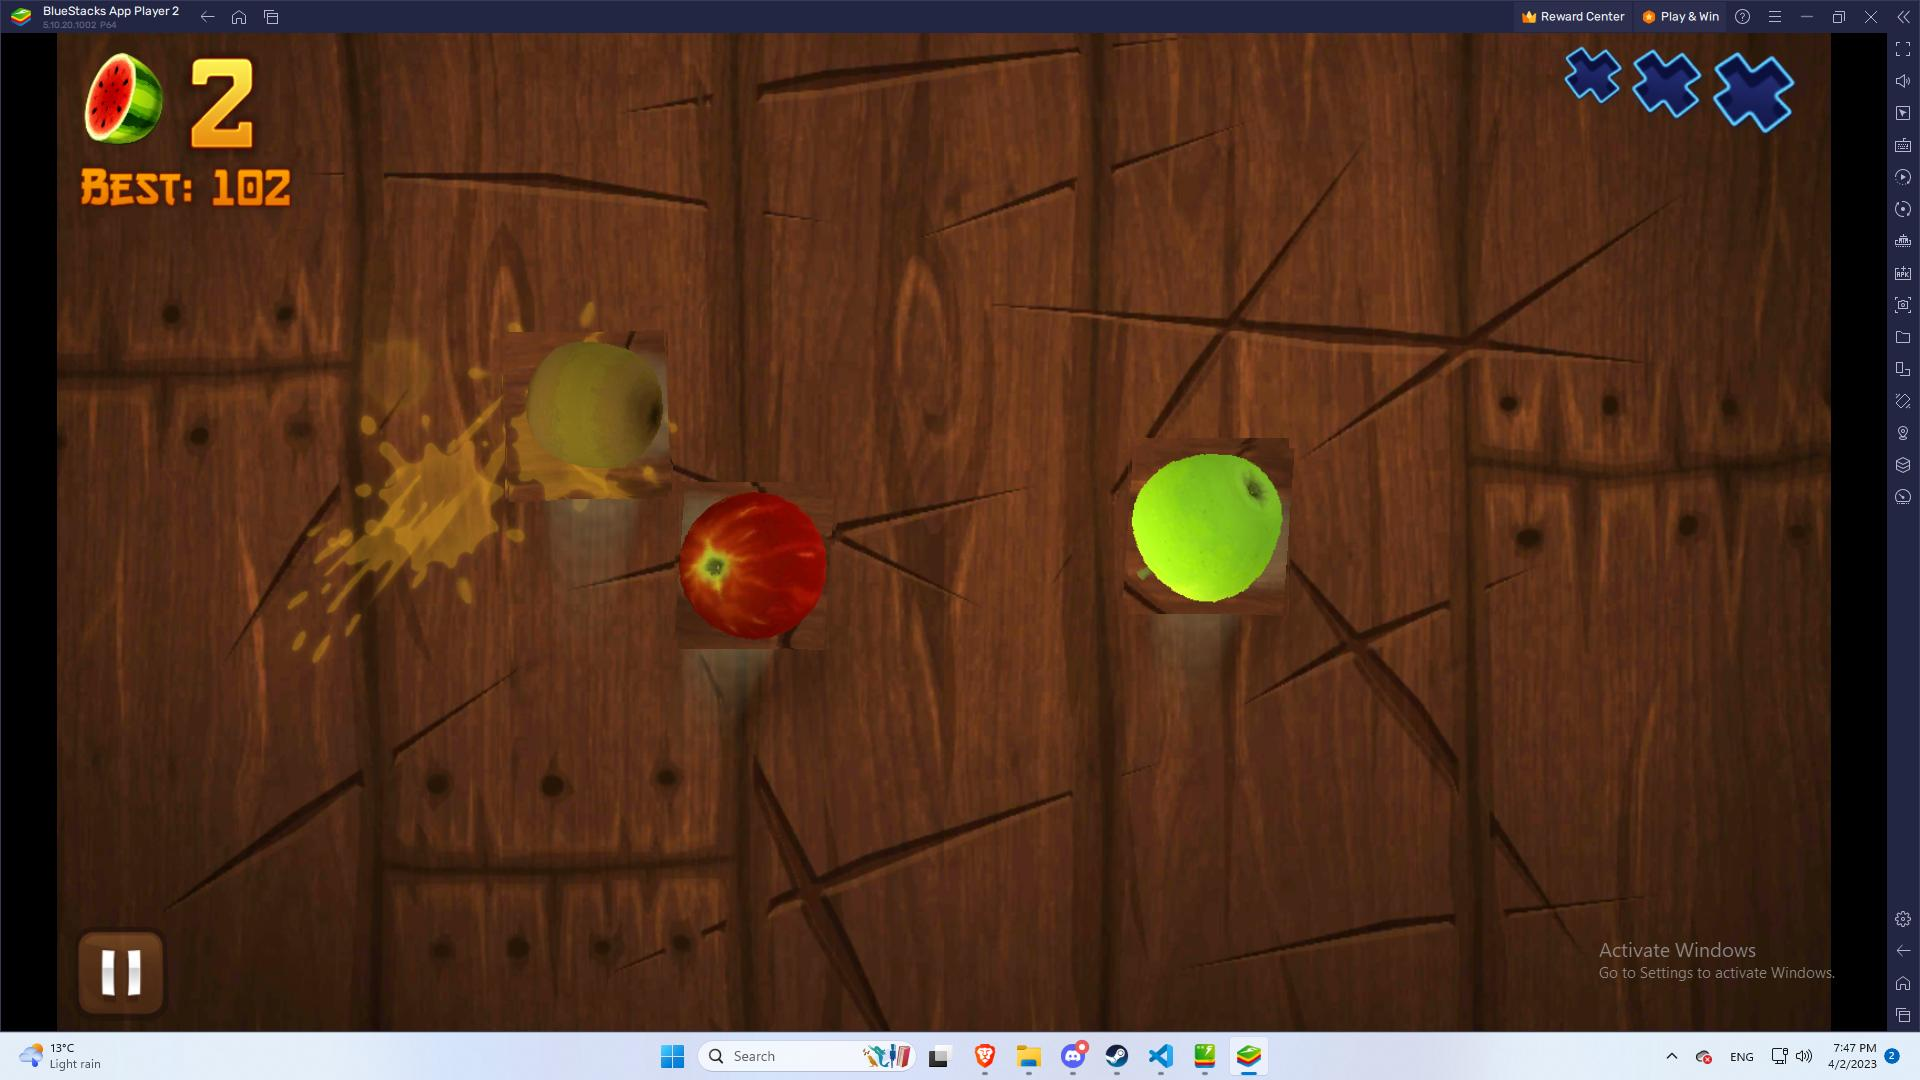fruit: (1121, 439, 1296, 613), (502, 331, 673, 500), (671, 484, 836, 647)
